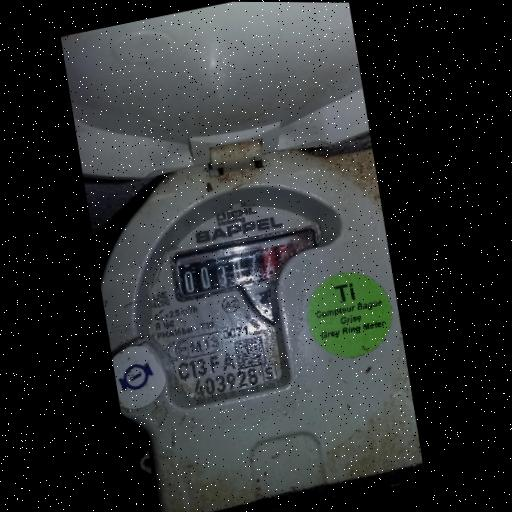0: (192, 257, 219, 292), (176, 262, 202, 296), (225, 251, 250, 286)
3: (209, 254, 234, 288)
6: (257, 245, 282, 282)
7: (242, 248, 267, 283)
border_water_meter_number: (165, 223, 326, 304)
